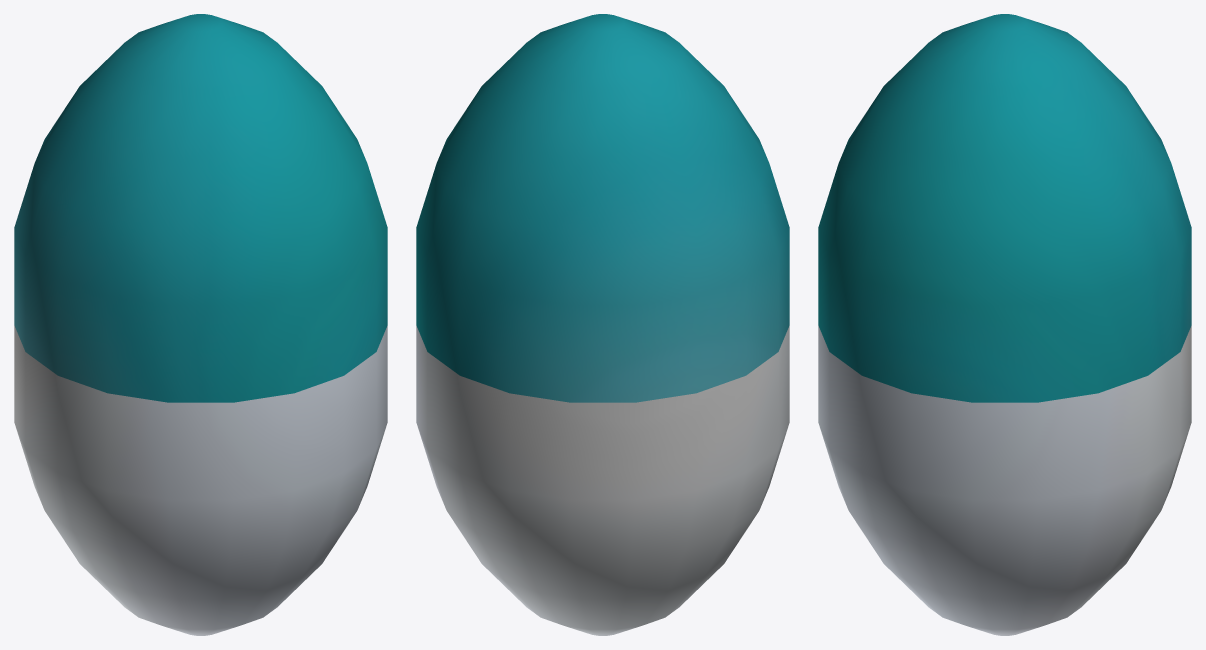
The model's file is pill.fbx.
The picture shows the model from 3 angles, left to right: view 1: azimuth 30°, elevation 25°; view 2: azimuth 150°, elevation 25°; view 3: azimuth 270°, elevation 25°; orthographic projection.
Visible parts, largest first — view 1: Cylinder; view 2: Cylinder; view 3: Cylinder.
Part boxes in pixels (x1,y1,x2,y2): Cylinder: [14, 14, 387, 635]; Cylinder: [416, 14, 789, 635]; Cylinder: [818, 14, 1191, 635].
Bounding box in the file's own units: 197 × 357 × 200.
